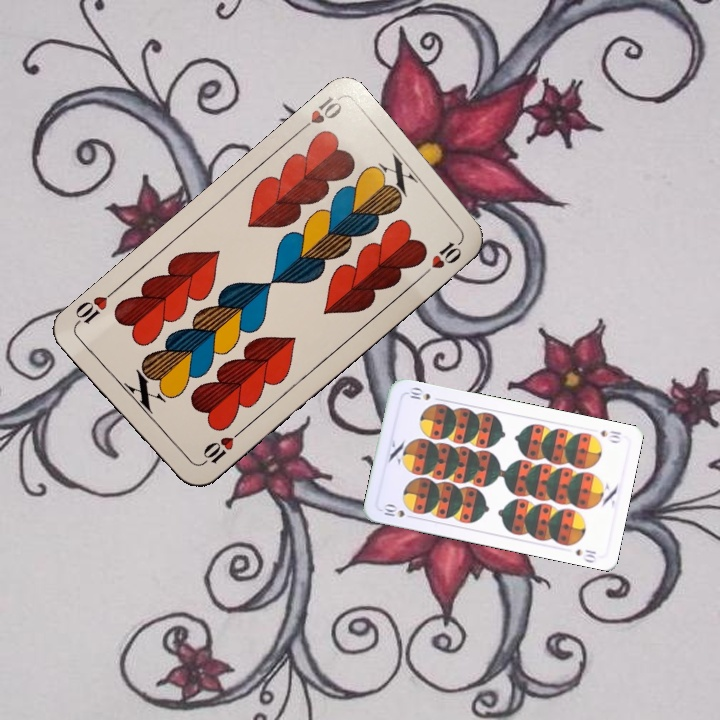H10: (292, 92, 345, 137), (194, 427, 244, 469)
S10: (379, 500, 407, 520), (596, 426, 624, 445)
